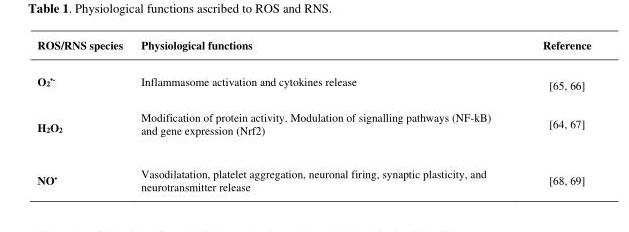table: (36, 36, 590, 193)
table column: (131, 36, 516, 193), (36, 36, 131, 193), (516, 36, 590, 193)
table column header: (36, 36, 590, 62)
table row: (36, 100, 590, 151), (36, 151, 590, 193), (36, 62, 590, 100), (36, 36, 590, 62)
